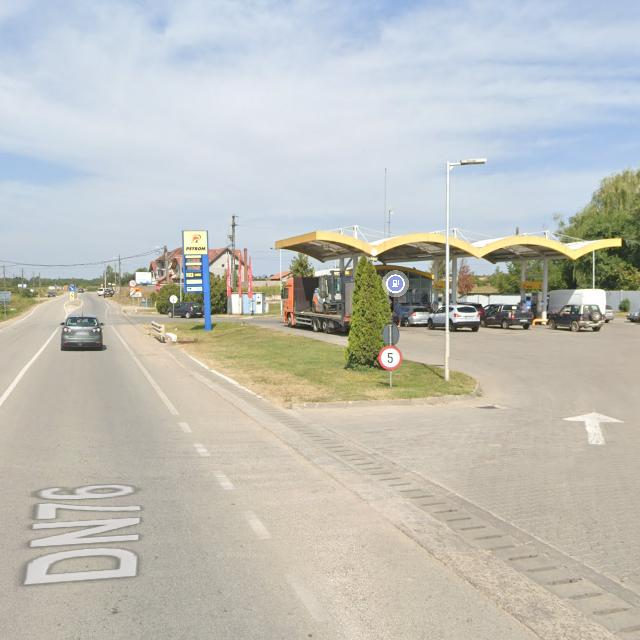forb_speed_over_5: (378, 344, 402, 370)
